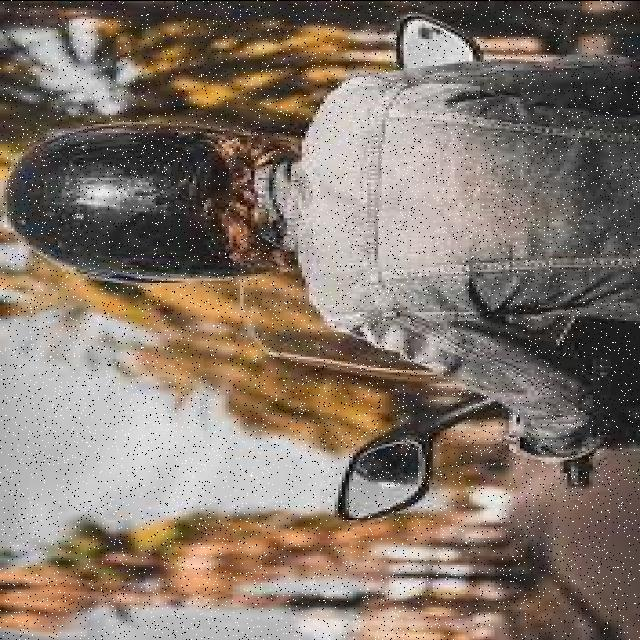Helmet: (12, 123, 298, 280)
